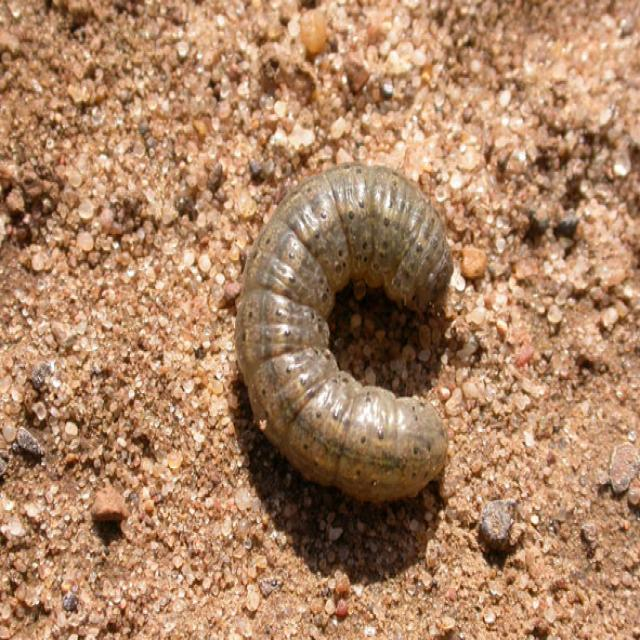Cutworm: (241, 159, 452, 505)
